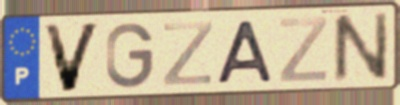A: (213, 18, 277, 86)
G: (103, 20, 157, 91)
N: (330, 10, 392, 86)
V: (40, 20, 105, 95)
Z: (161, 19, 216, 88), (277, 15, 329, 84)
